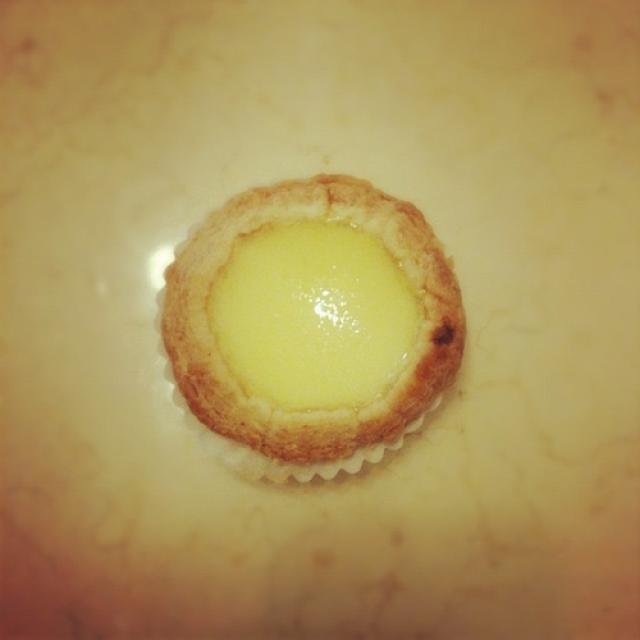炸货点心: (140, 162, 473, 500)
蛋糕甜品: (140, 162, 473, 500)
